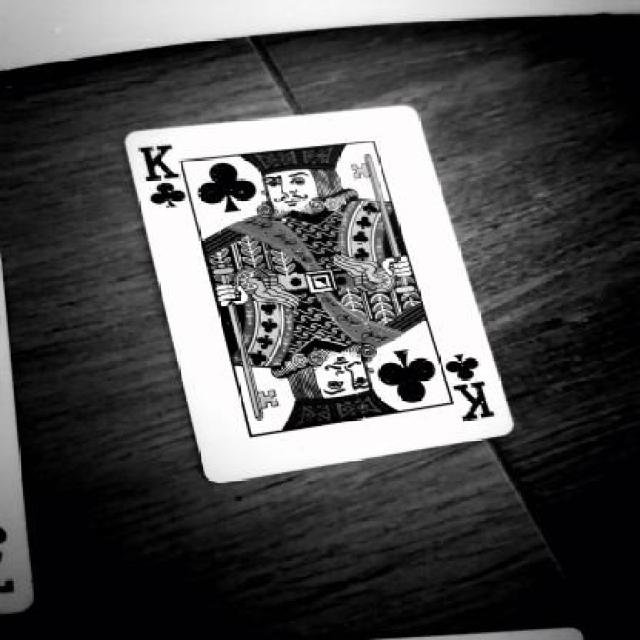KC: (133, 137, 193, 229), (440, 333, 495, 421)
